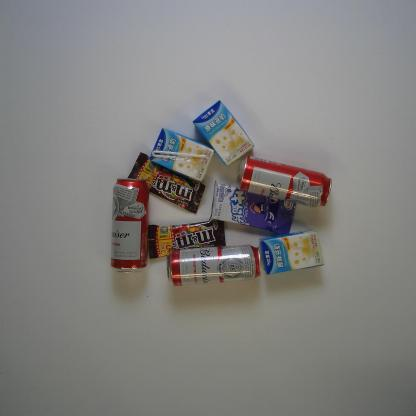Alcohol: (235, 155, 332, 208), (166, 244, 262, 287), (110, 177, 149, 274)
Candy: (209, 180, 297, 235)
Chocolate: (126, 152, 206, 214), (148, 217, 227, 259)
Milk: (192, 100, 254, 167), (149, 128, 215, 182), (259, 229, 325, 275)
